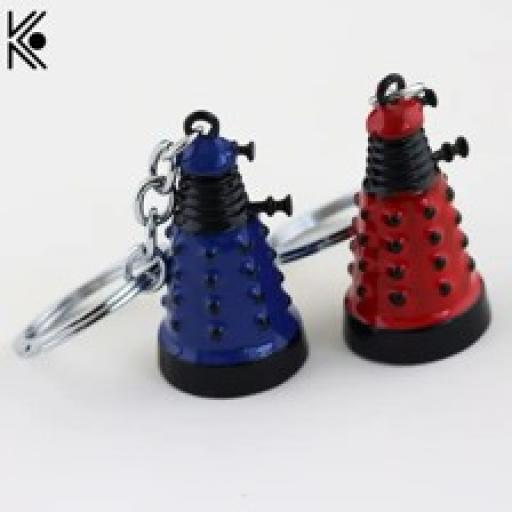dalek: (120, 114, 316, 400), (340, 82, 490, 364)
